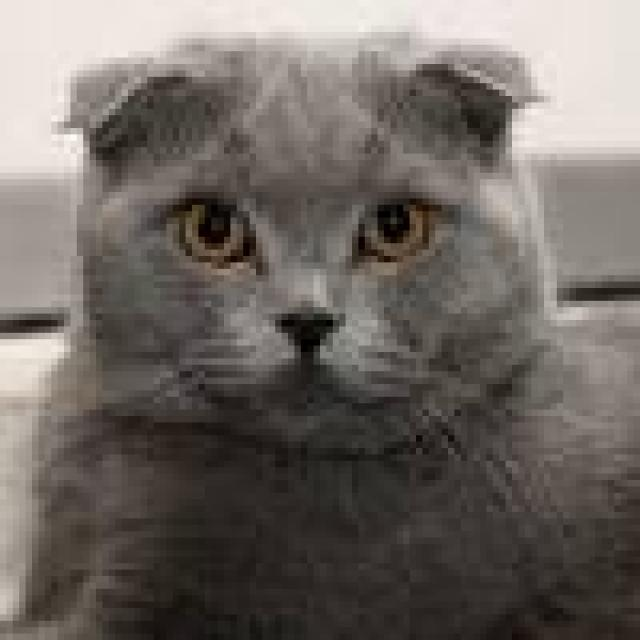cat-face: (42, 6, 640, 475)
